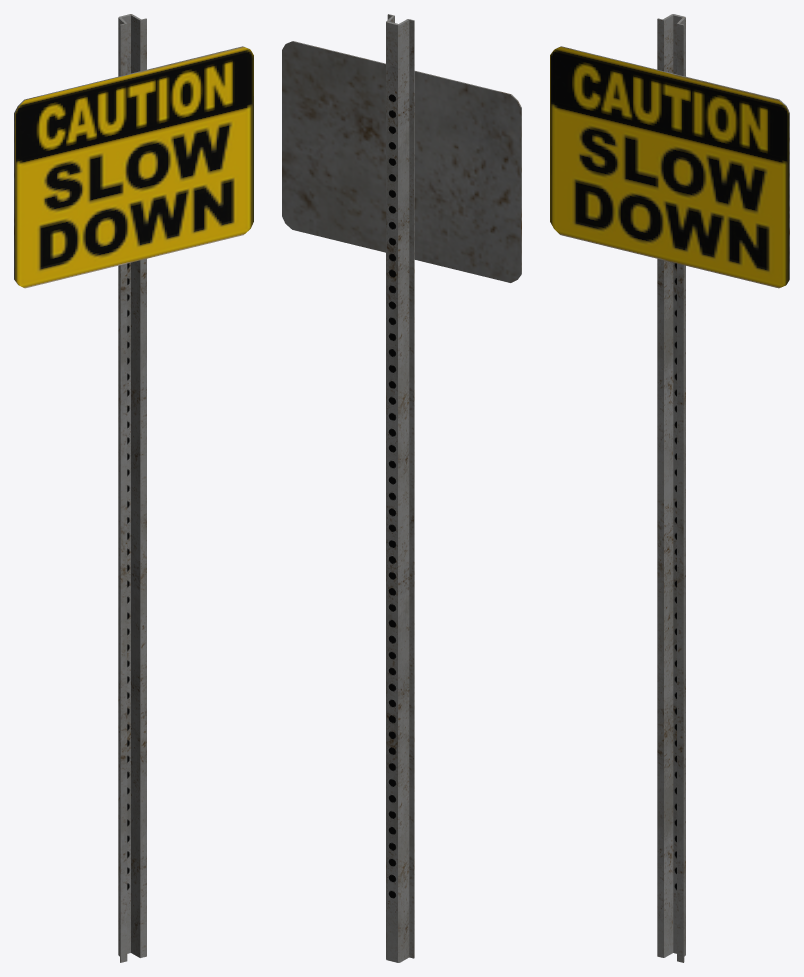
File: slow.glb
3 views of the same model, side by side, from view 1: azimuth 30°, elevation 25°; view 2: azimuth 150°, elevation 25°; view 3: azimuth 330°, elevation 25° (orthographic).
Parts seen in each view (by area): view 1: Cube.085_39; view 2: Cube.085_39; view 3: Cube.085_39.
Part boxes in pixels (x1=…): Cube.085_39: x1=14, y1=14, x2=253, y2=962; Cube.085_39: x1=282, y1=14, x2=521, y2=962; Cube.085_39: x1=550, y1=14, x2=789, y2=962.
Size of the model in its own units: 3.03 by 11.36 by 0.2163.
1 material, 1 textured.
